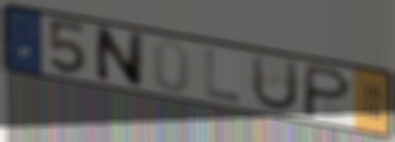0: (151, 38, 192, 96)
5: (46, 16, 90, 79)
L: (203, 45, 244, 105)
N: (92, 24, 146, 91)
P: (299, 62, 355, 121)
U: (248, 52, 301, 114)
